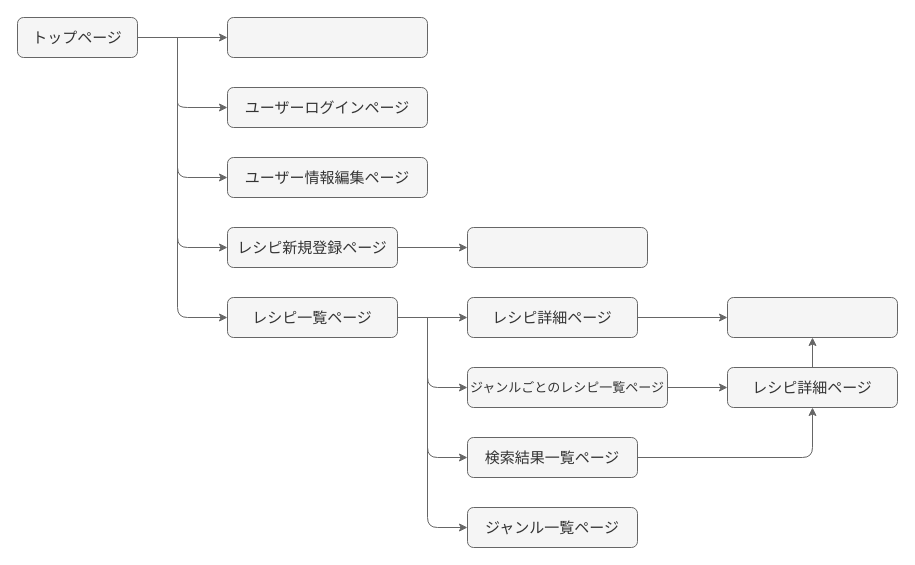
This 915x565 diagram has some shape labels left out. Each missing label, with the box of its shape:
ジャンル新規登録ページ: (466, 226, 648, 268)
ユーザー新規登録ページ: (226, 16, 428, 58)
レシピ編集ページ: (726, 296, 898, 338)
